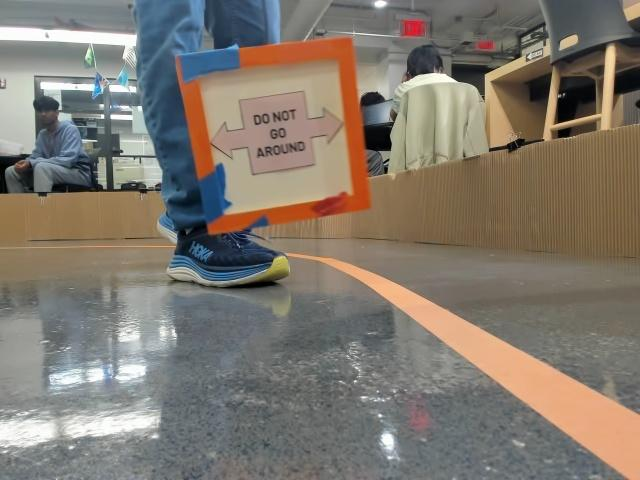Do Not Go Around: (204, 106, 337, 182)
